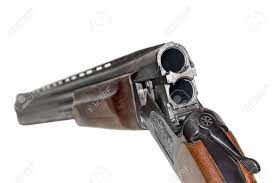weapon: (14, 42, 261, 183)
